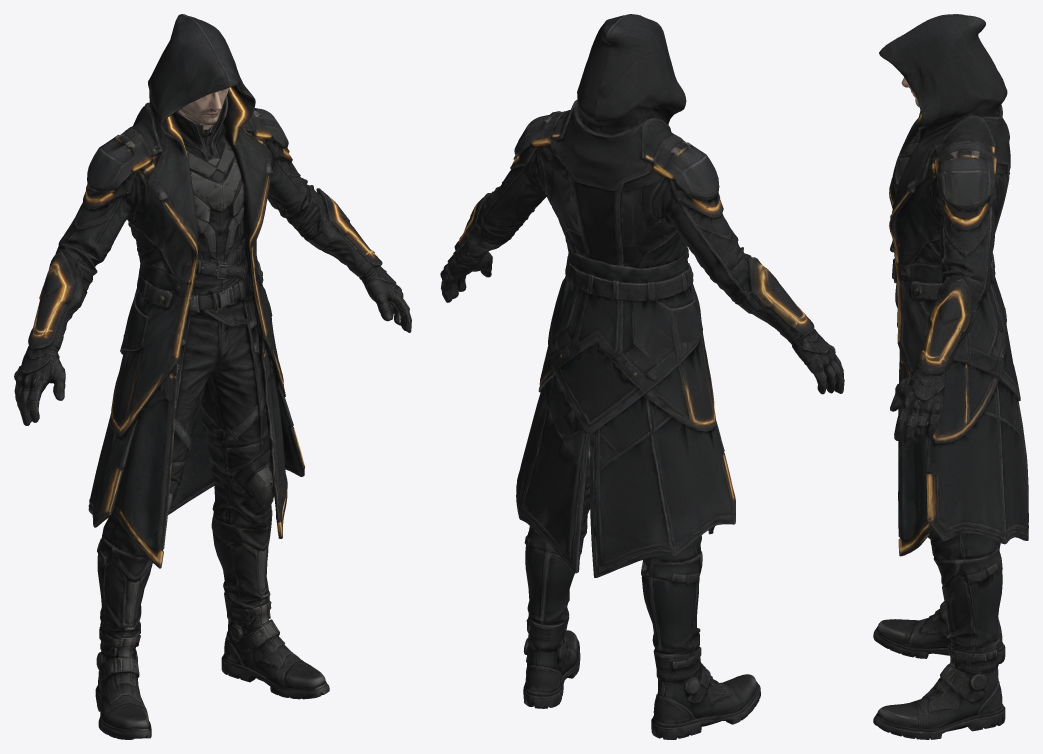
The model's file is VEX.glb.
3 views of the same model, side by side, from view 1: azimuth 30°, elevation 25°; view 2: azimuth 150°, elevation 25°; view 3: azimuth 270°, elevation 25° (orthographic).
Size of the model in its own units: 1.14 by 1.9 by 0.3972.
1 material, 1 textured.
